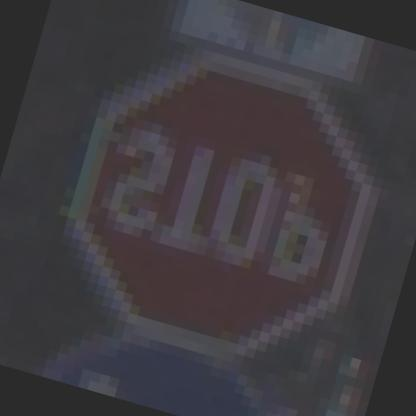stop: (32, 28, 396, 389)
